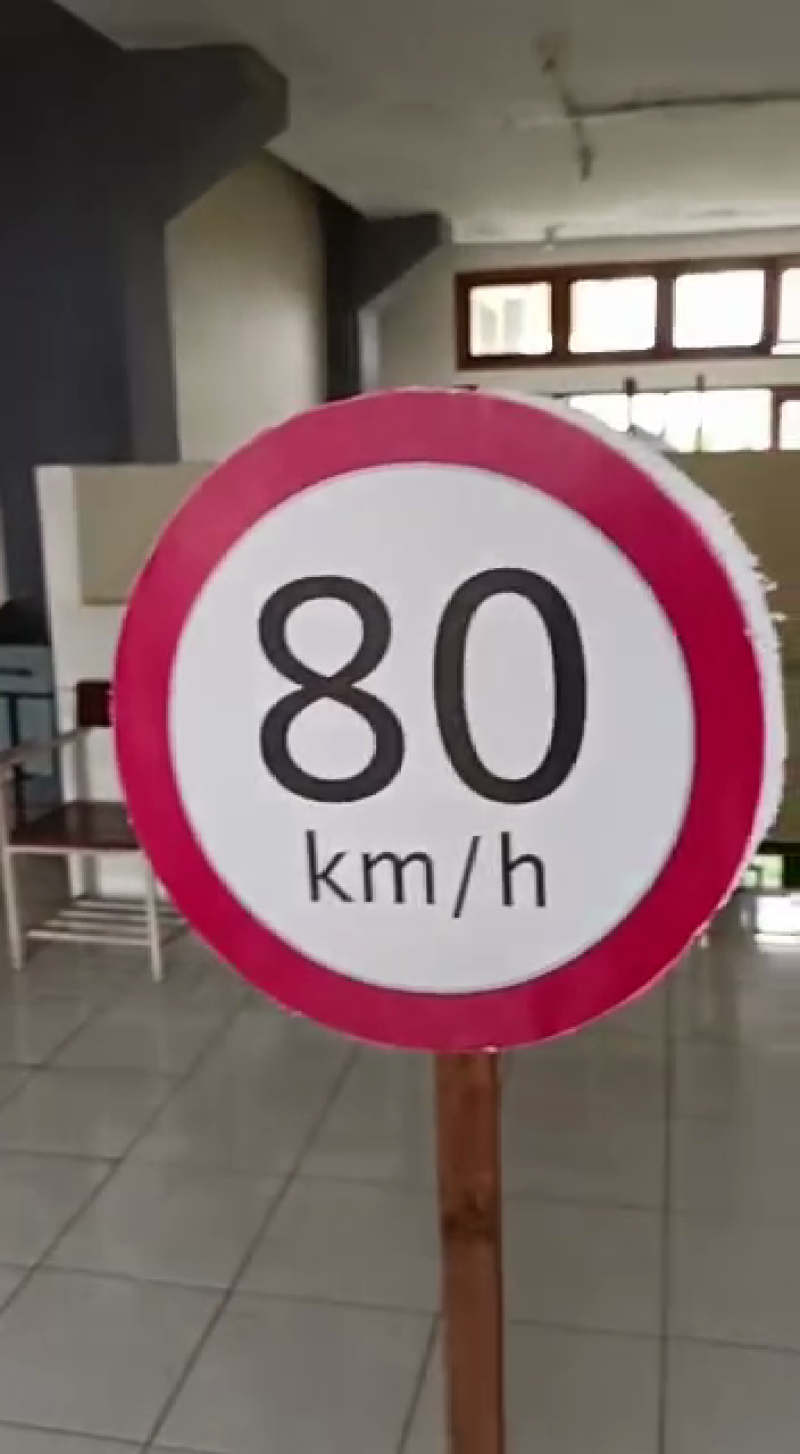batas maksimal 80kmperjam: (102, 380, 800, 1076)
